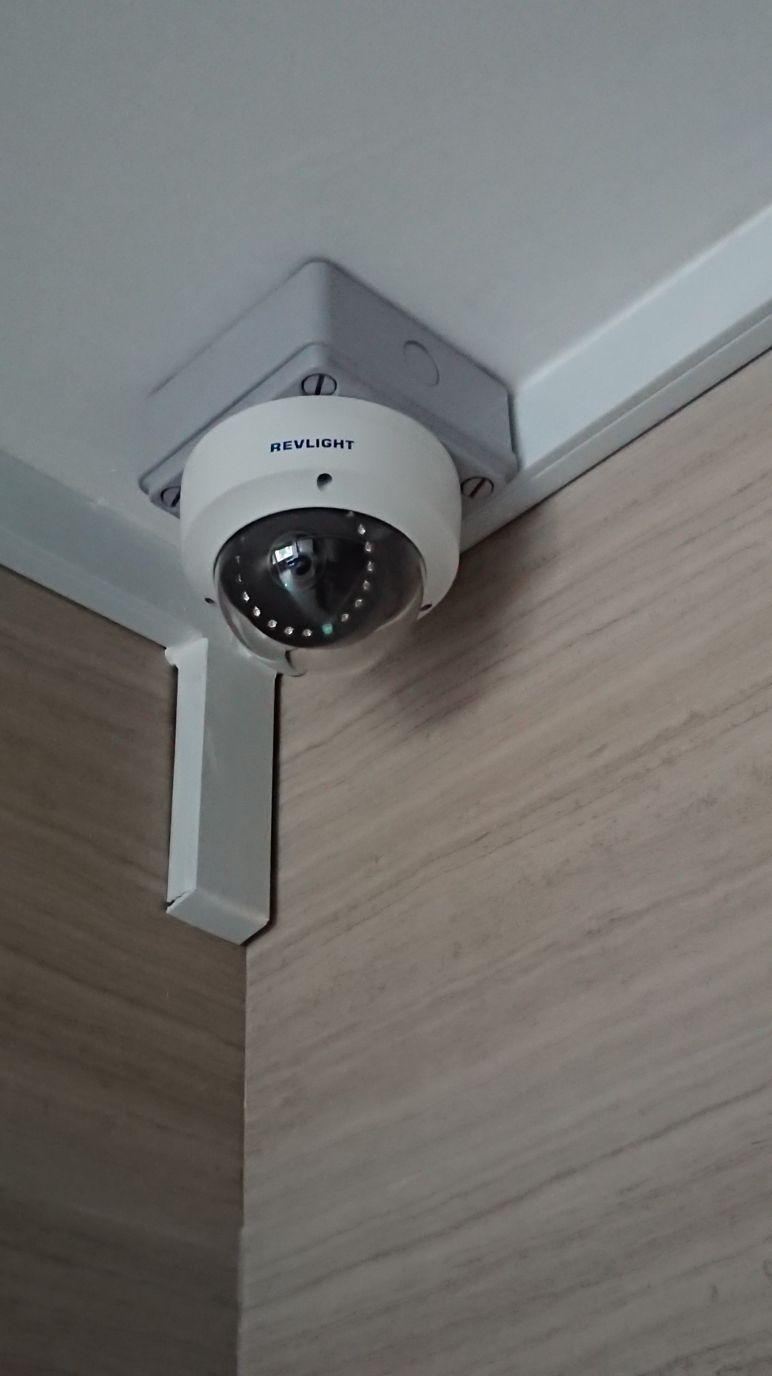CCTV: (180, 395, 461, 675)
